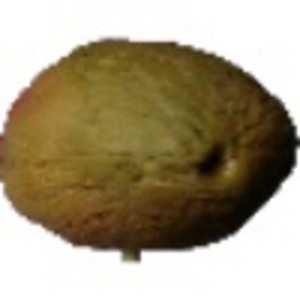mamão: (3, 27, 295, 255)
